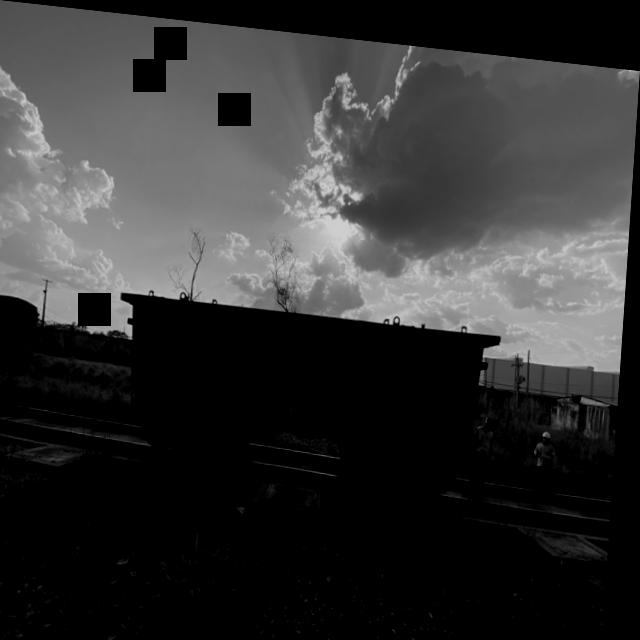gondola: (110, 265, 513, 496)
